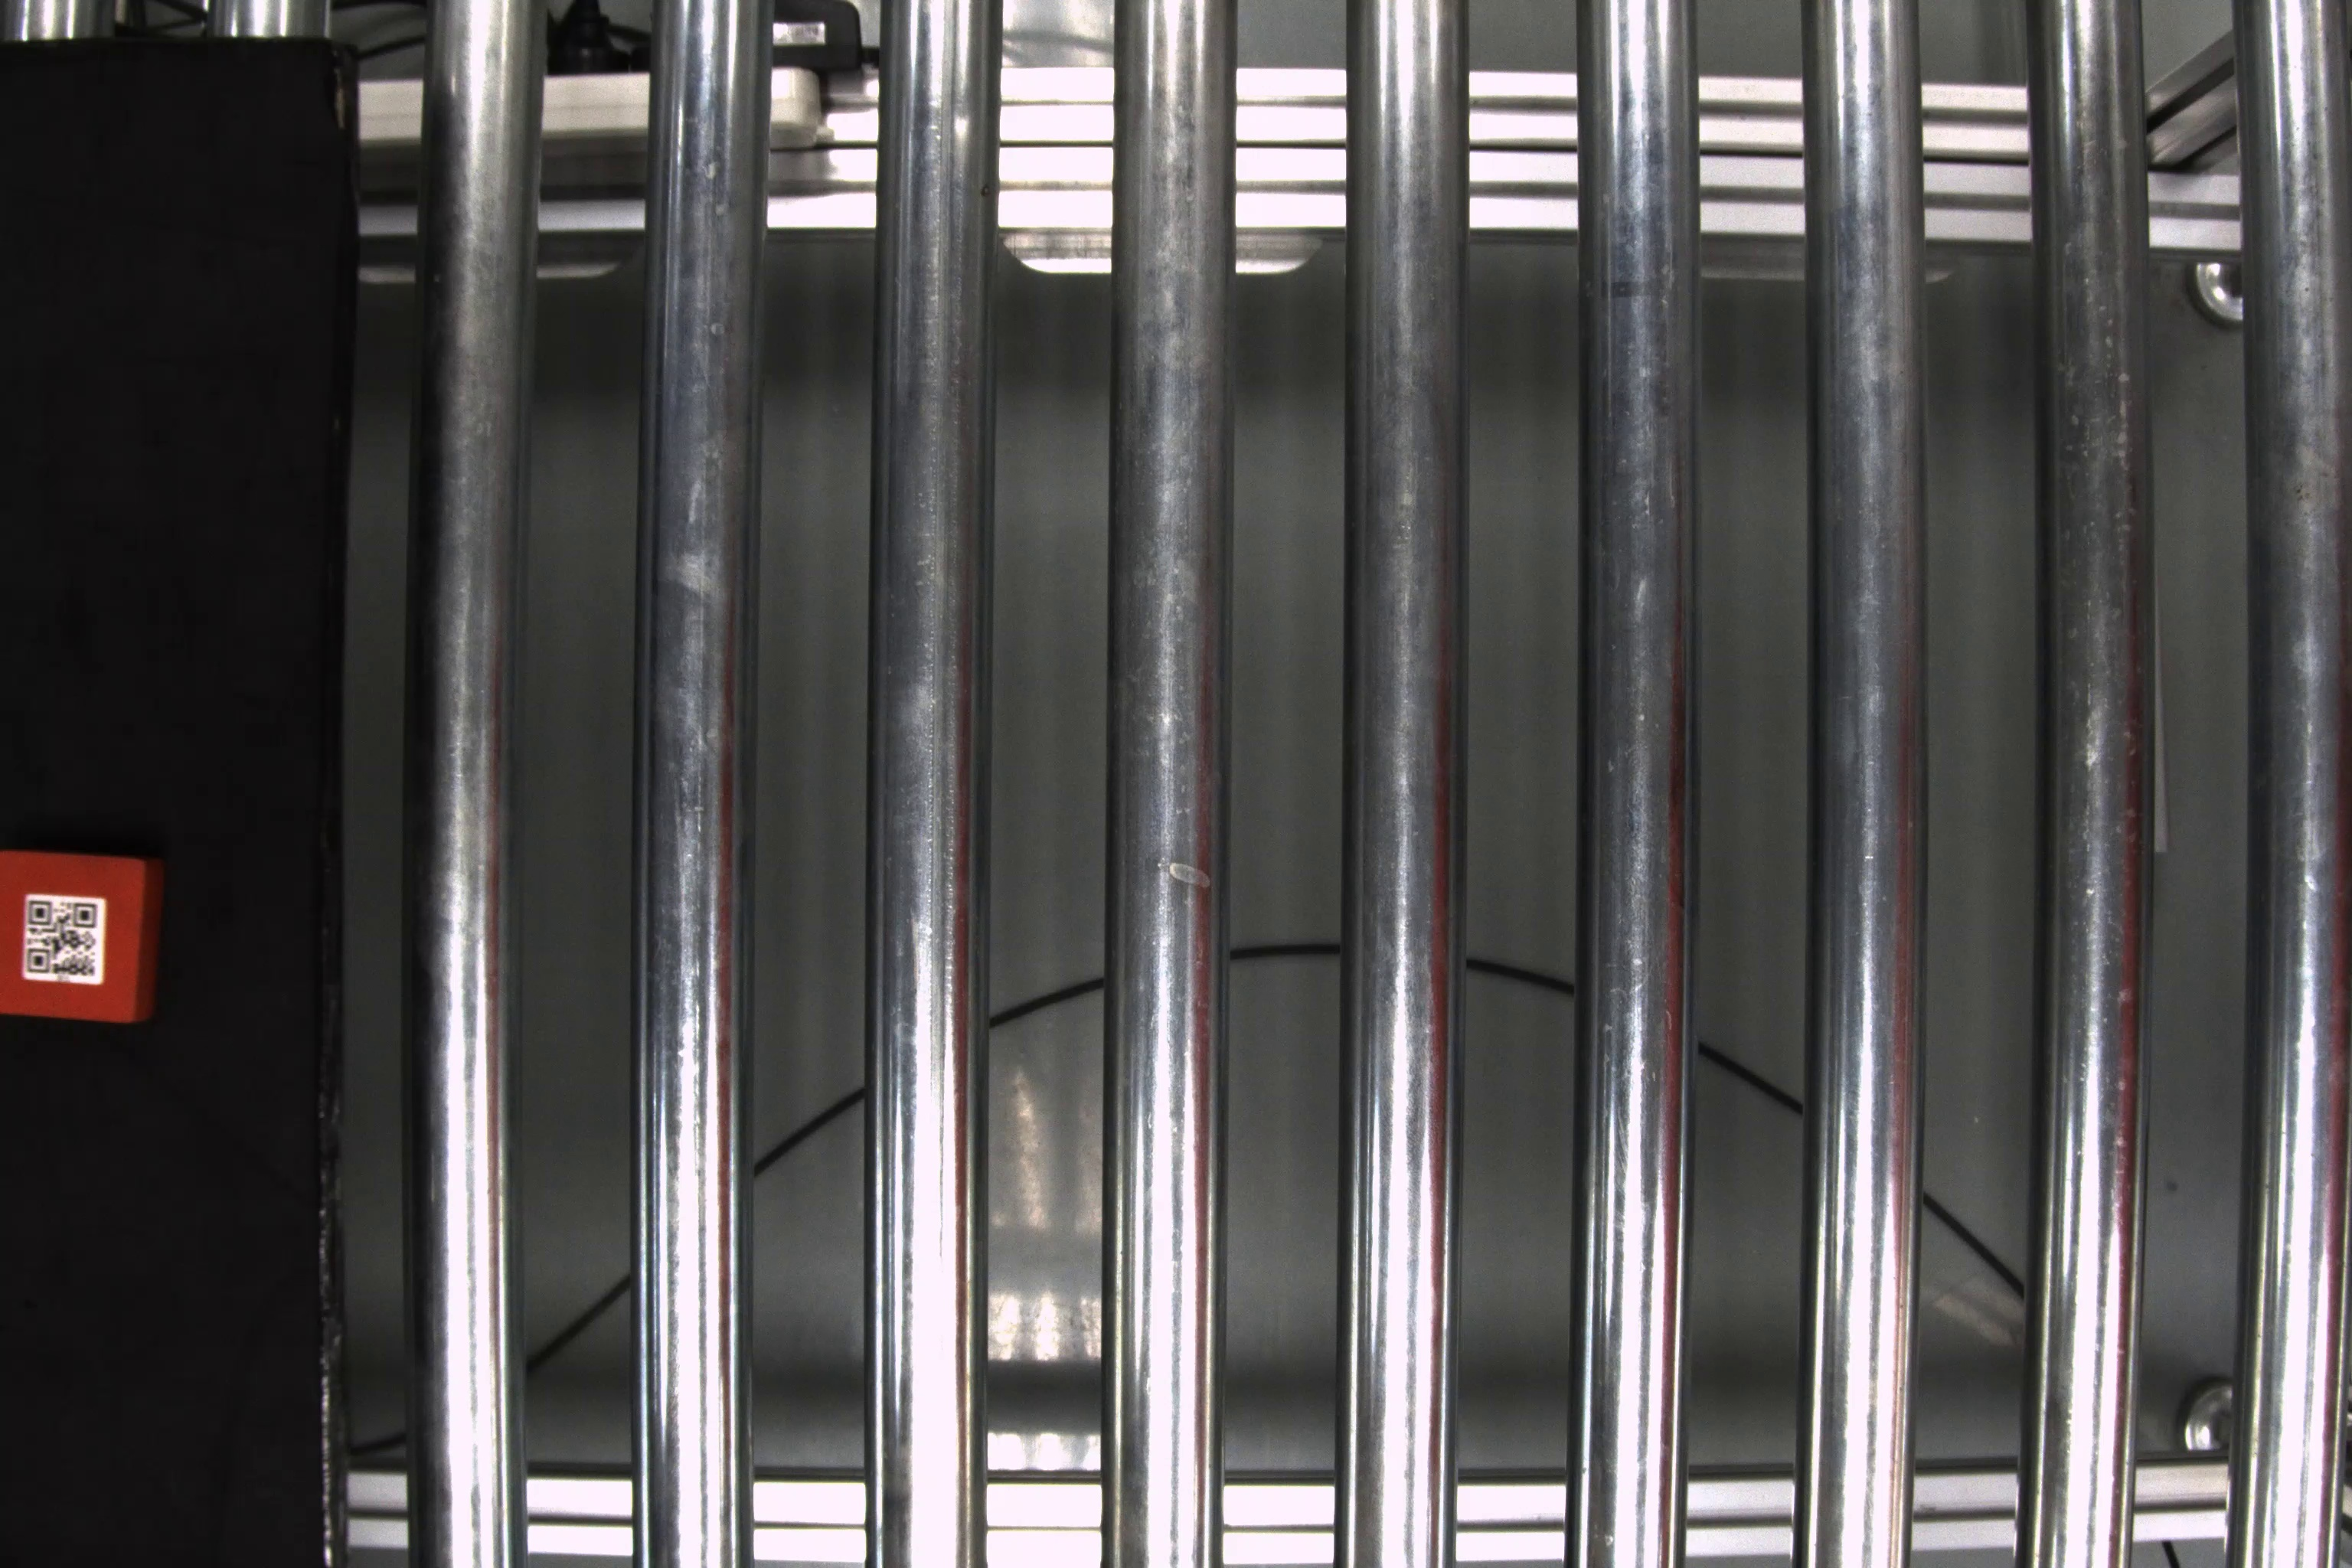wood: (3, 847, 166, 1034)
